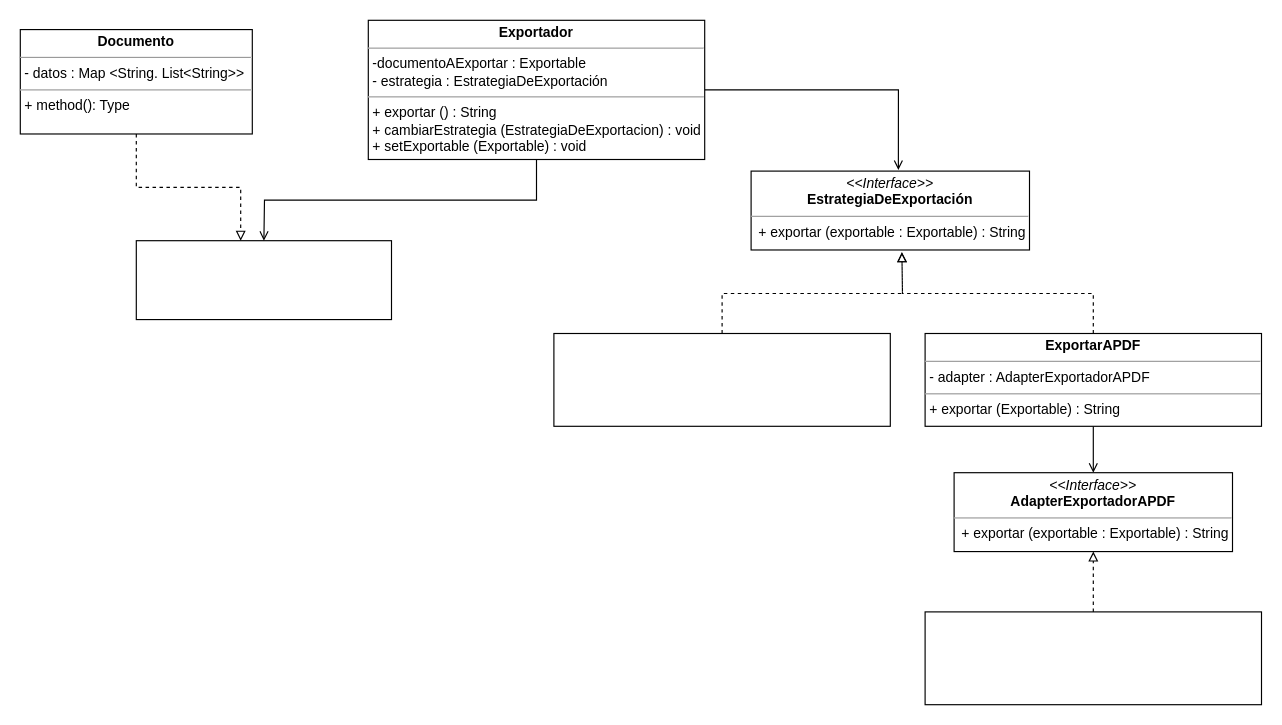
Some shapes in this 1282 by 725 pixel diagram are drawn without their labels. The shapes that lost their labels are listed below. From the top down, each one's centre as x and y in pixels, then its label:
At point 263,280: "<<Interface>> Exportable + datos() : <String. List<String>>".
At point 721,379: "ExportarAExcel - + exportar (Exportable) : String".
At point 1093,658: "AdapterApacchePDFBox - + exportar (Exportable) : String".
